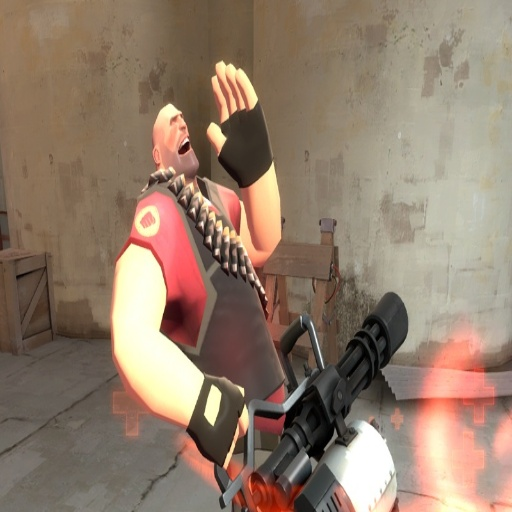hand: (206, 59, 270, 183), (188, 368, 250, 472)
